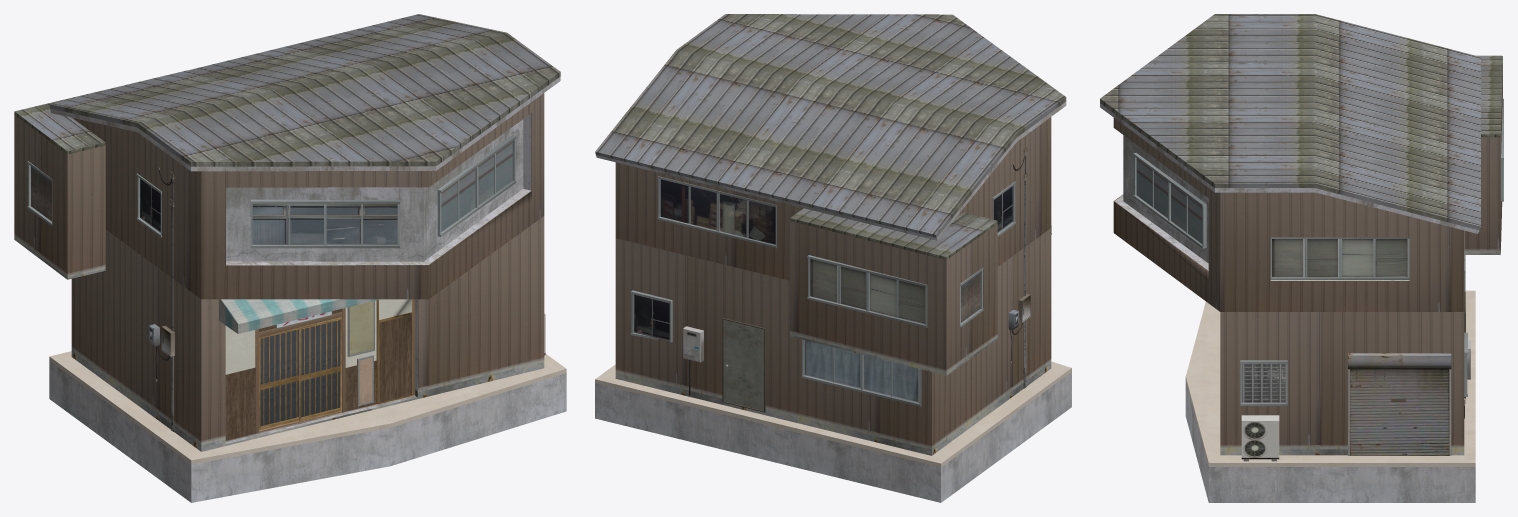
The model's file is corner_shop_1.fbx.
3 views of the same model, side by side, from view 1: azimuth 30°, elevation 25°; view 2: azimuth 150°, elevation 25°; view 3: azimuth 270°, elevation 25° (orthographic). The views are drawn at different scales.
Visible parts, largest first — view 1: corner_shop_1; view 2: corner_shop_1; view 3: corner_shop_1.
Boxes of the visible parts, x1,y1,x2,y2 form: corner_shop_1: [14, 14, 566, 502]; corner_shop_1: [595, 14, 1071, 502]; corner_shop_1: [1100, 14, 1503, 502].
Bounding box in the file's own units: 1106 × 1036 × 900.
Materials: 9 (9 with a texture image).
